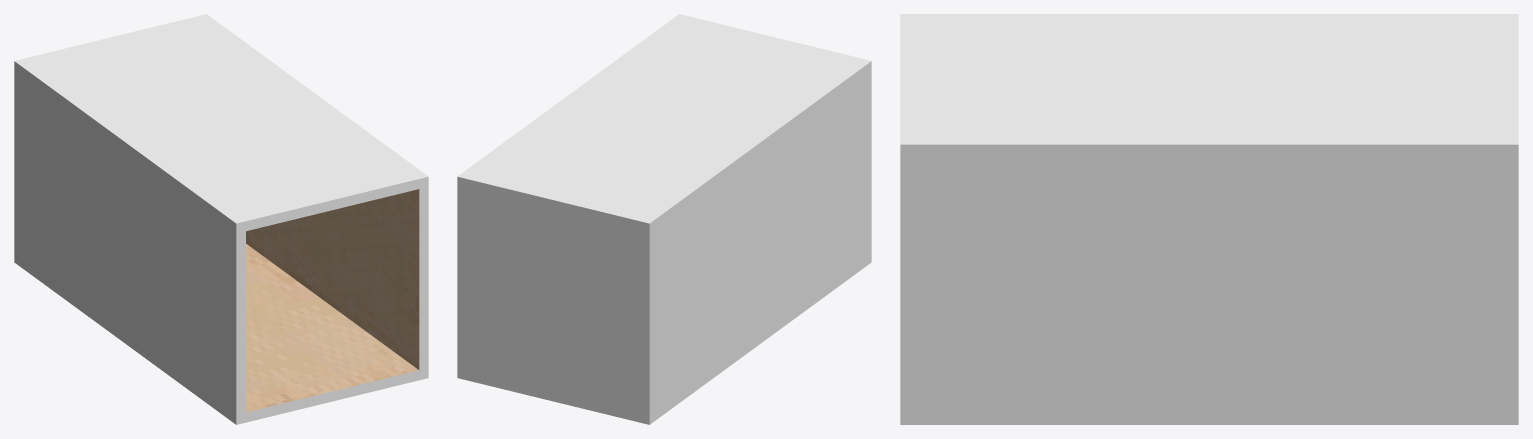
File: csg_box_3d.gltf
The picture shows the model from 3 angles, left to right: view 1: azimuth 30°, elevation 25°; view 2: azimuth 150°, elevation 25°; view 3: azimuth 270°, elevation 25°; orthographic projection. The views are drawn at different scales.
Visible parts, largest first — view 1: CSGBox3D2; view 2: CSGBox3D2; view 3: CSGBox3D2.
Boxes of the visible parts, x1=… form: CSGBox3D2: x1=14, y1=14, x2=428, y2=424; CSGBox3D2: x1=457, y1=14, x2=871, y2=424; CSGBox3D2: x1=900, y1=14, x2=1518, y2=424.
Size of the model in its own units: 10 by 10 by 20.
2 materials, 1 textured.
